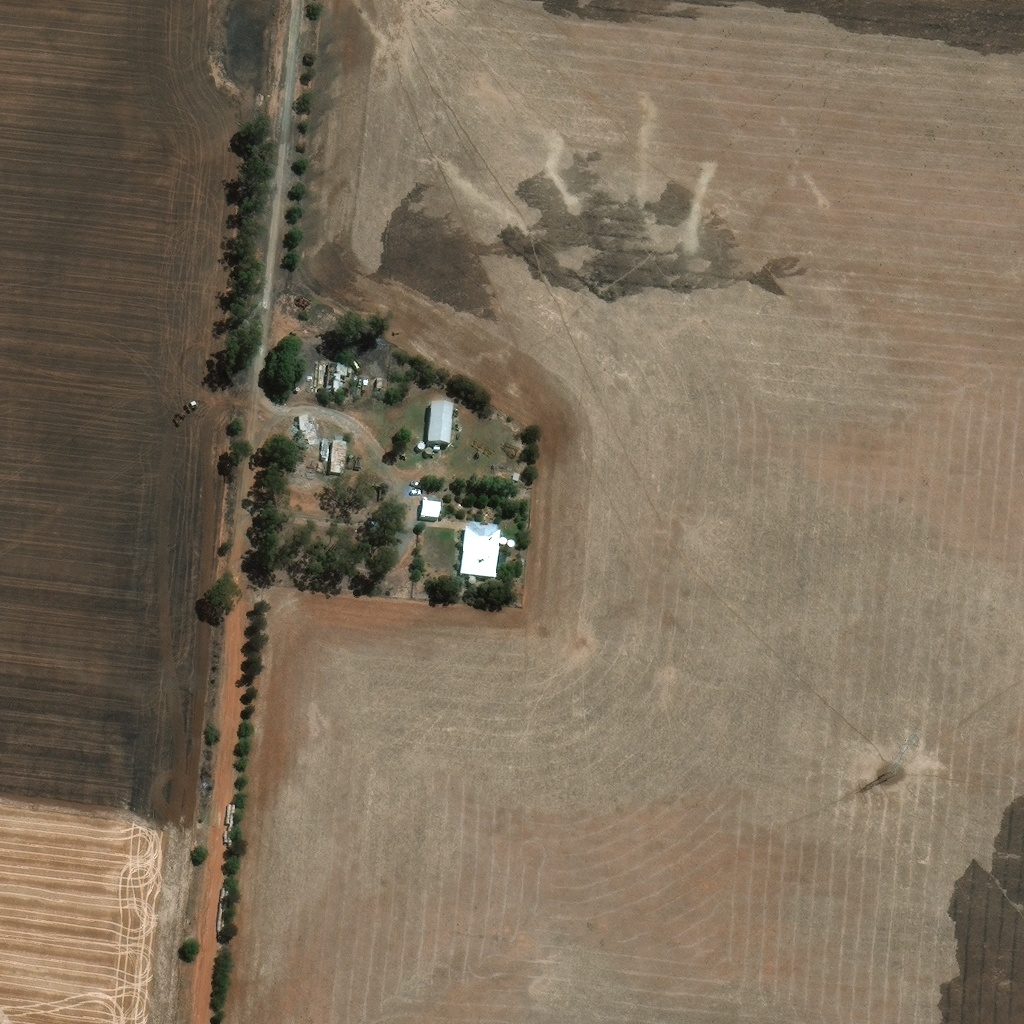0 no-damage: (460, 521, 507, 578), (427, 402, 453, 444), (329, 435, 347, 474), (420, 494, 442, 519), (467, 575, 477, 583), (507, 538, 516, 546), (512, 472, 520, 481), (418, 441, 426, 448), (425, 445, 432, 453)
1 minor-damage: (321, 434, 329, 456)
2 major-damage: (325, 360, 349, 389), (299, 411, 313, 427)
3 destroyed: (292, 433, 312, 461), (295, 319, 319, 328), (295, 326, 319, 331)
4 un-classified: (297, 408, 310, 415)
